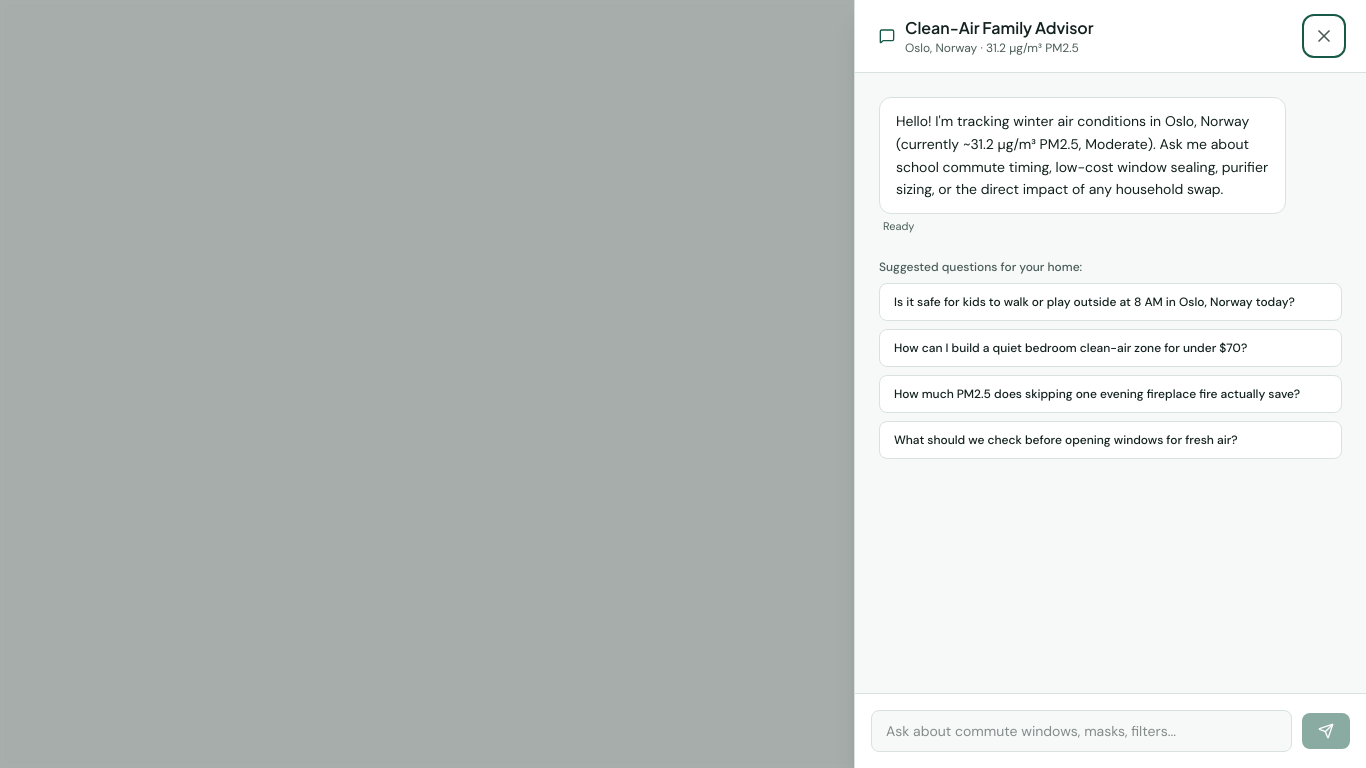
Test: VinterKlar UI Components & Accessibility › AdvisorDrawer streams SSE chunks, updates welcome on city change, handles errors, and closes on Escape
Later steps or results of the test are not shown.
Check: the element named "Advisor conversation" is shown, box [855,73,1365,693]
Check: the text "tracking winter air conditions in Oslo, Norway" is shown, box [896,112,1272,198]
Type "Best bedroom filtration tip?" into the field named "Ask the clean-air advisor a question".
click(1082, 731); type("Best bedroom filtration tip?")  # box [871,710,1292,752]
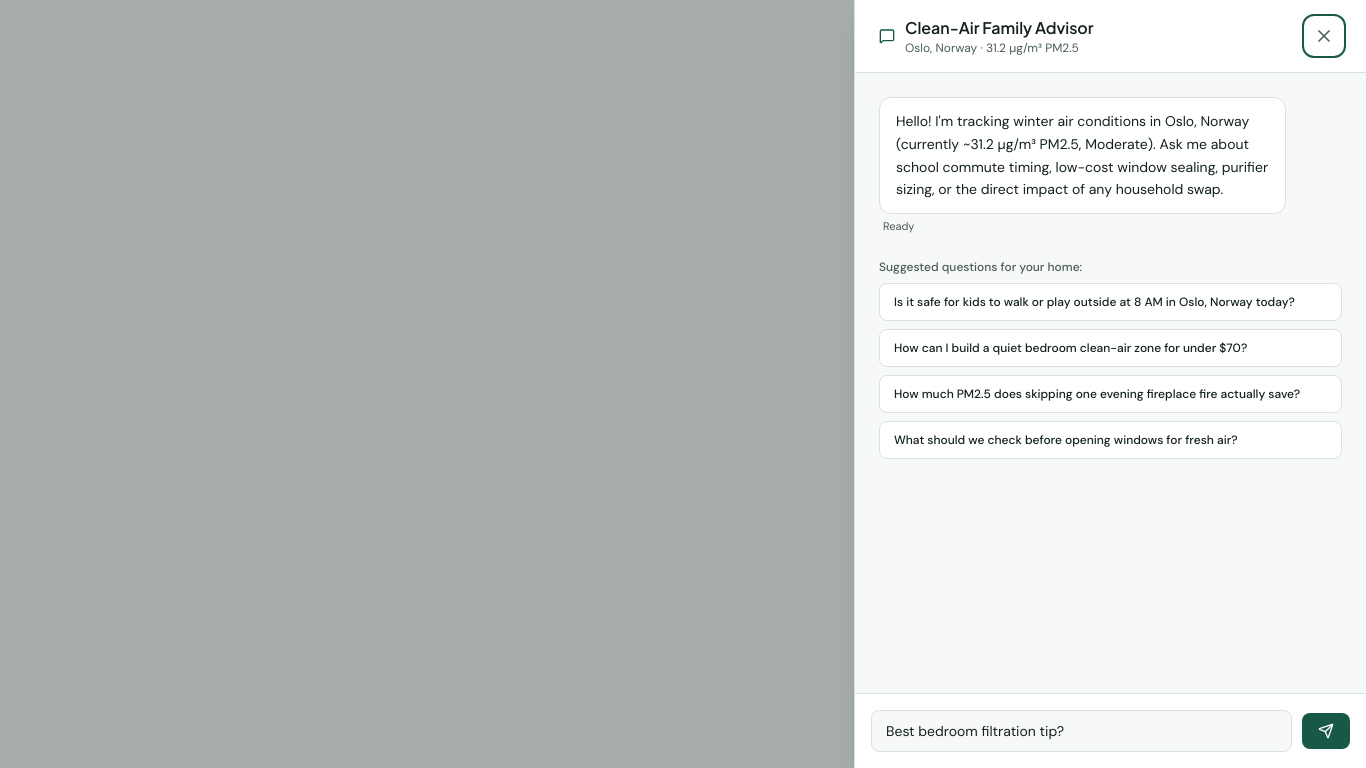
Click the button named "Send message".
click(1326, 731)  # box [1302,713,1350,749]
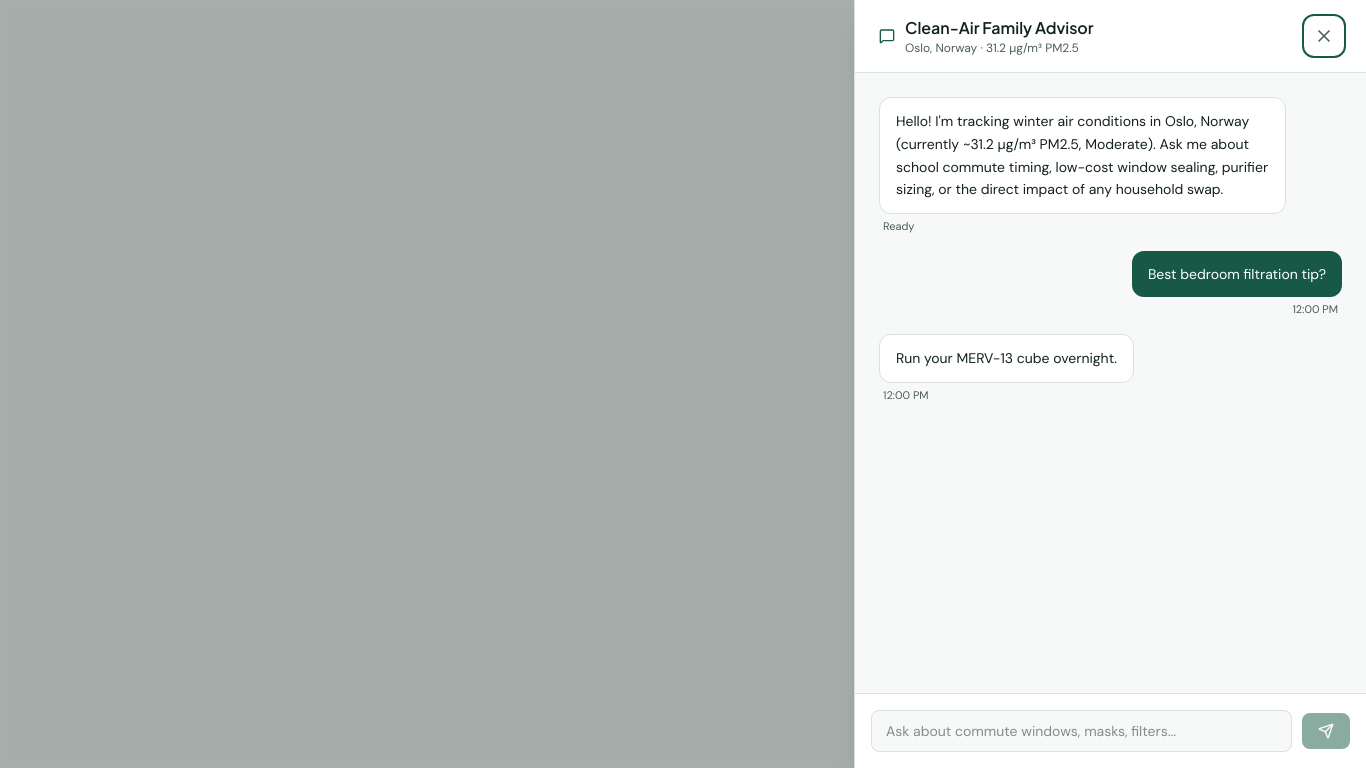
Check: the text "Run your MERV-13 cube overnight." is shown, box [879,334,1134,383]
